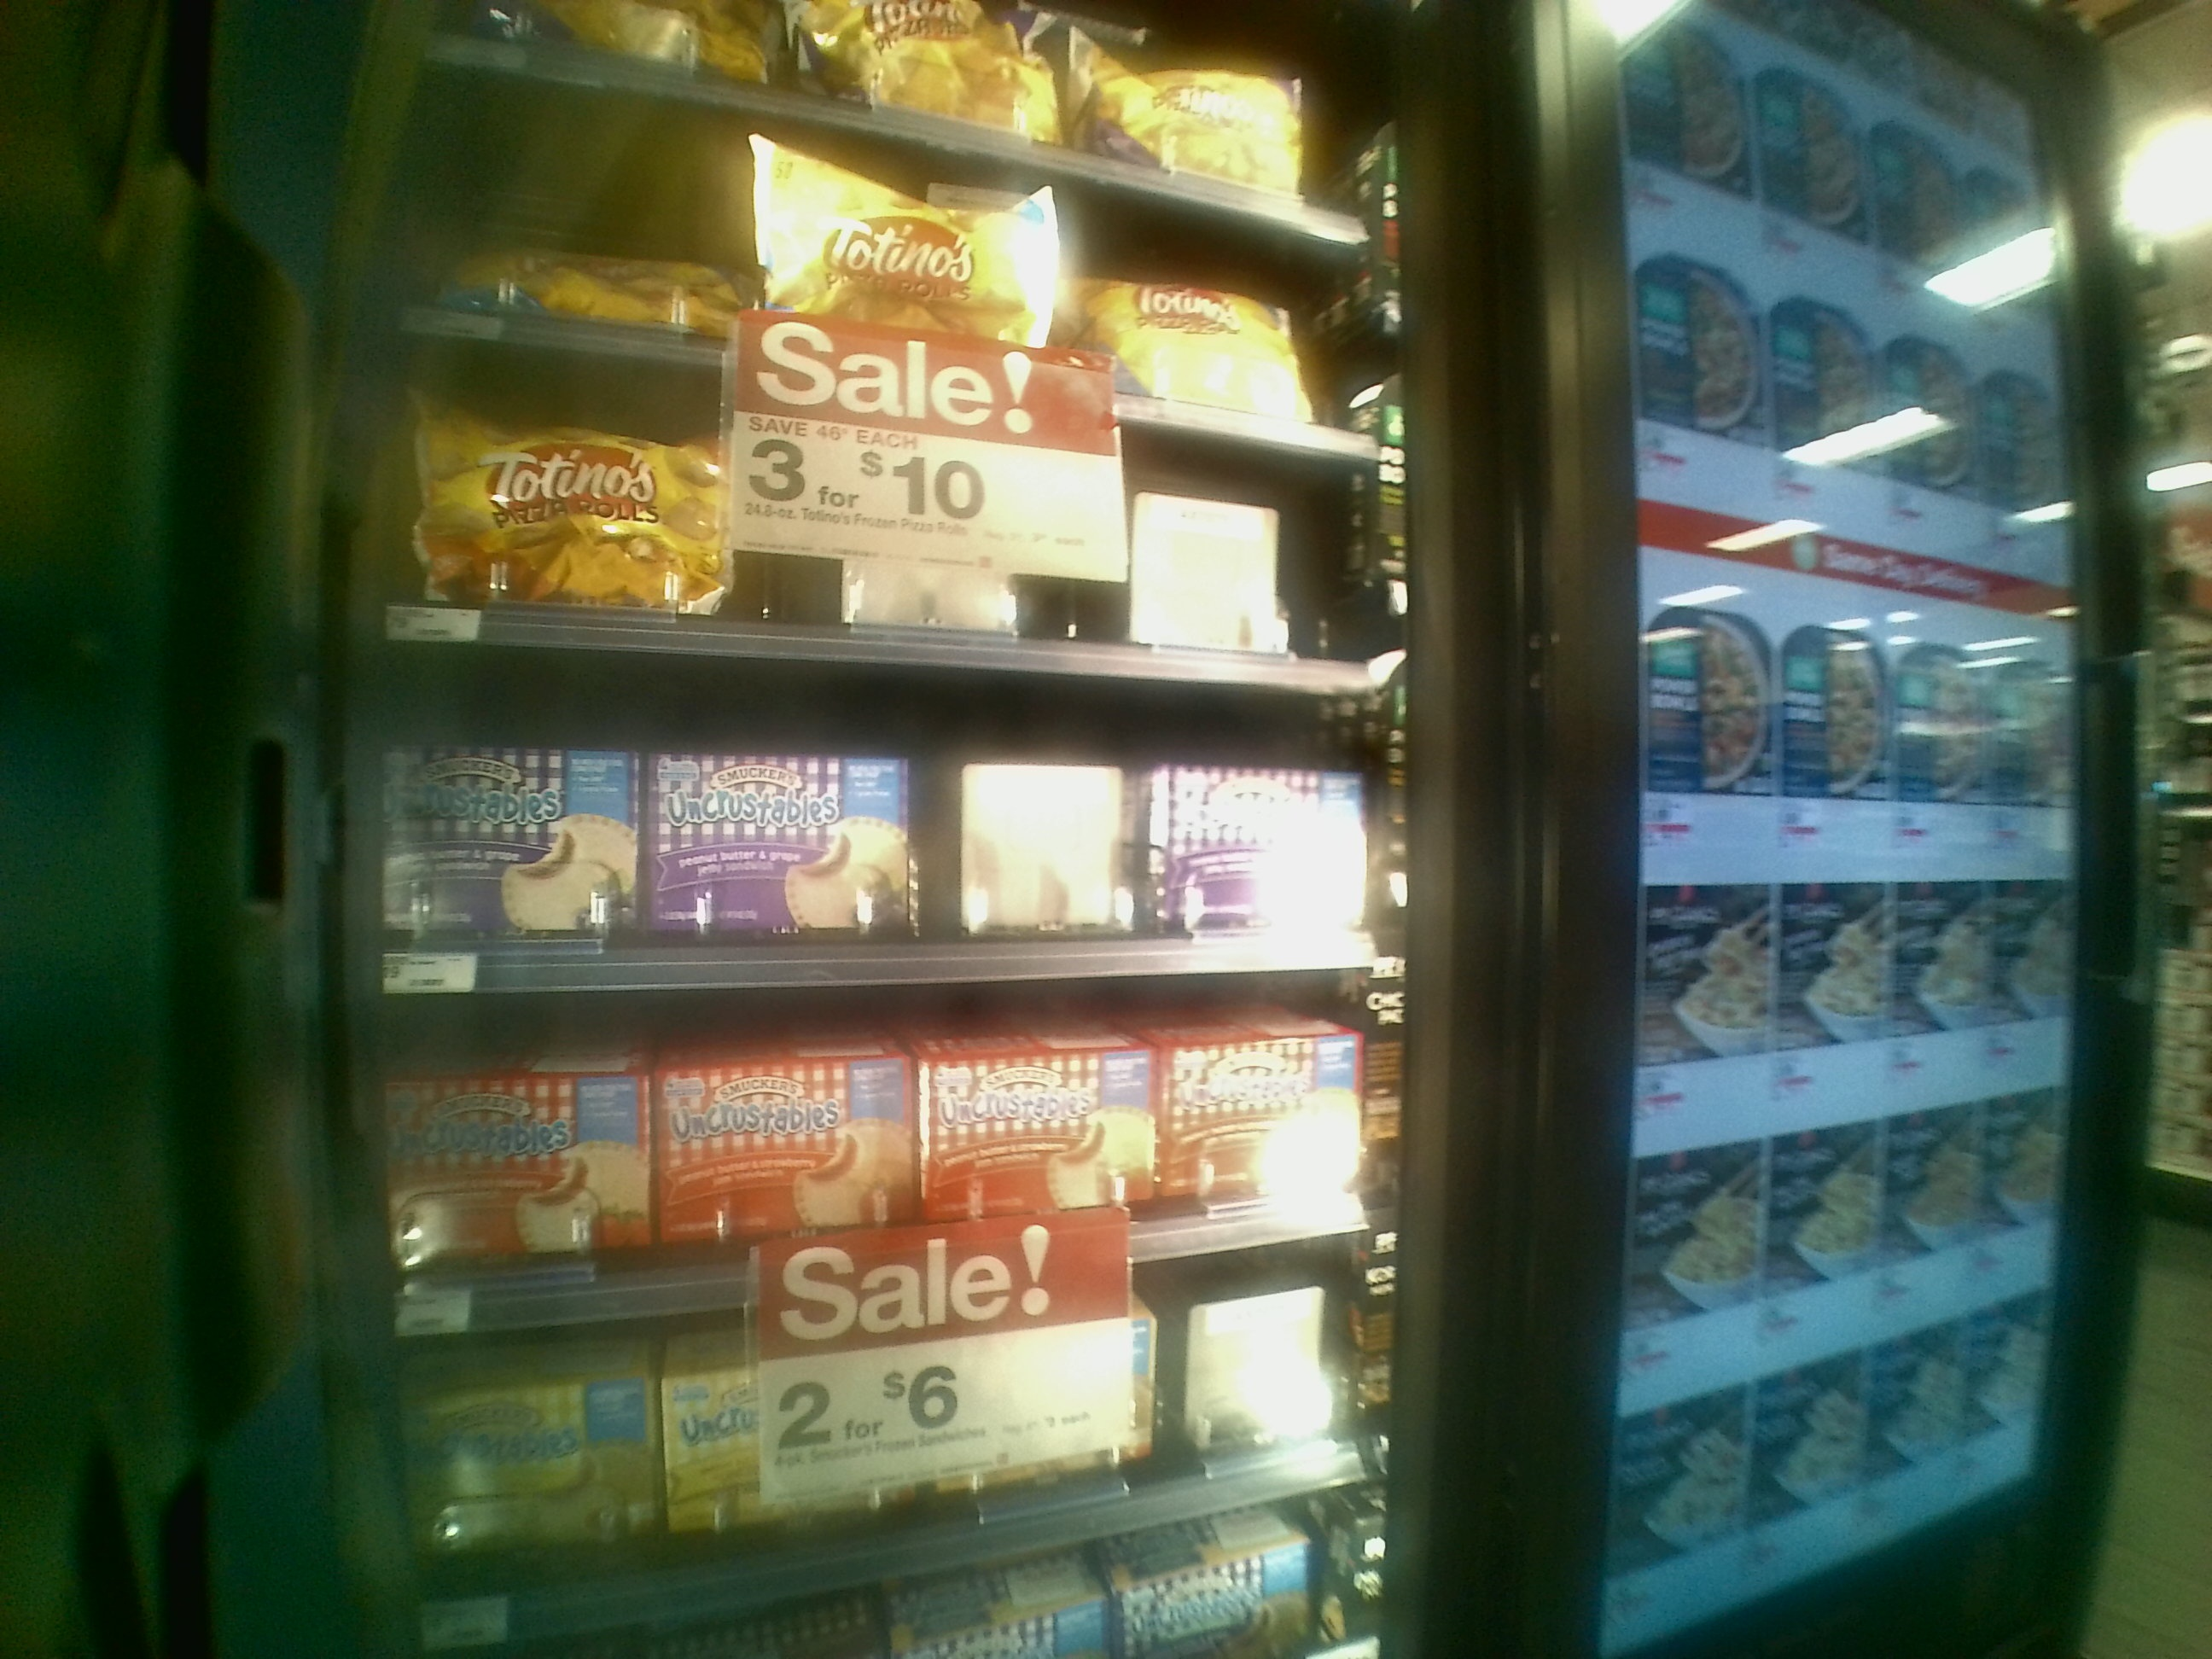shelf: (359, 650, 1406, 995), (380, 343, 1393, 694), (361, 988, 1383, 1314)
